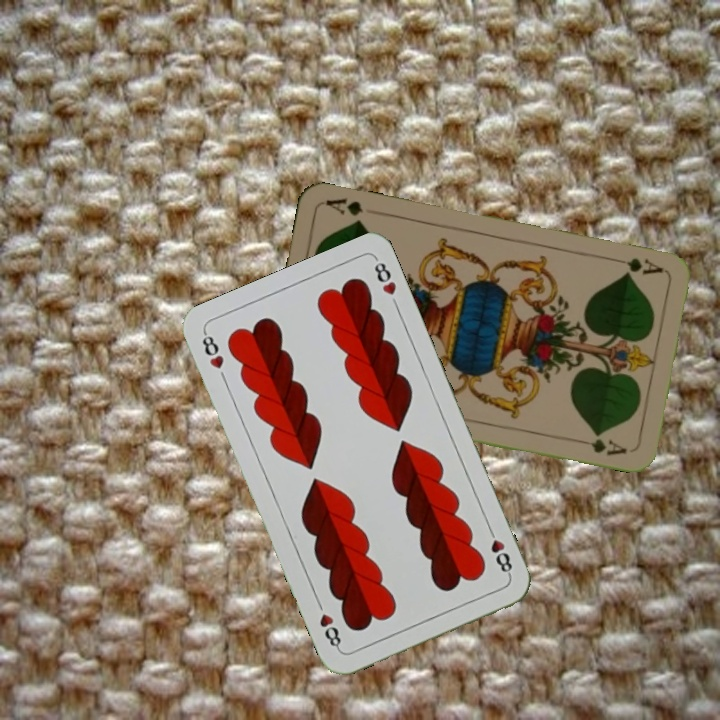GA: (607, 253, 666, 278)
H8: (484, 523, 515, 579), (198, 328, 227, 372)
